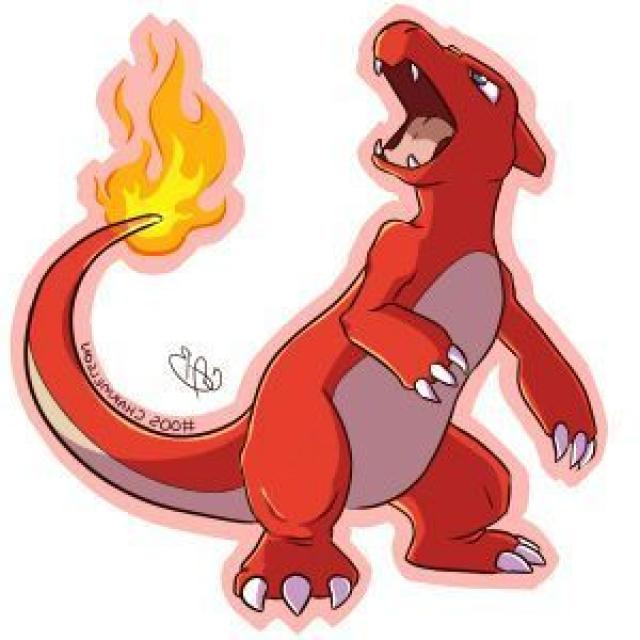Charmeleon: (53, 15, 557, 551)
